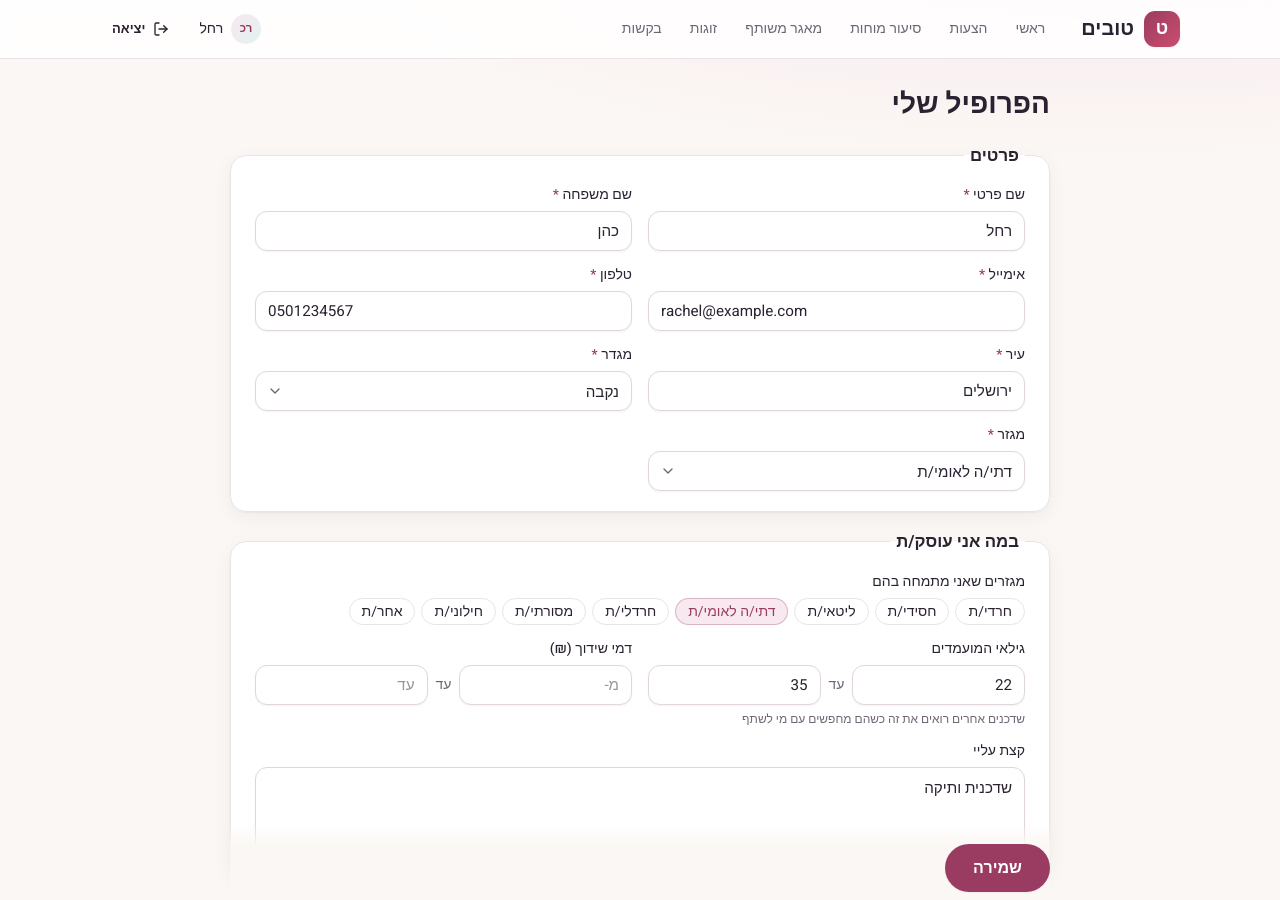
Test: matchmaker profile › checks the age range before saving
Replace the text in the number field named "עד גיל" with "20": (734, 685) [648,665,820,705]
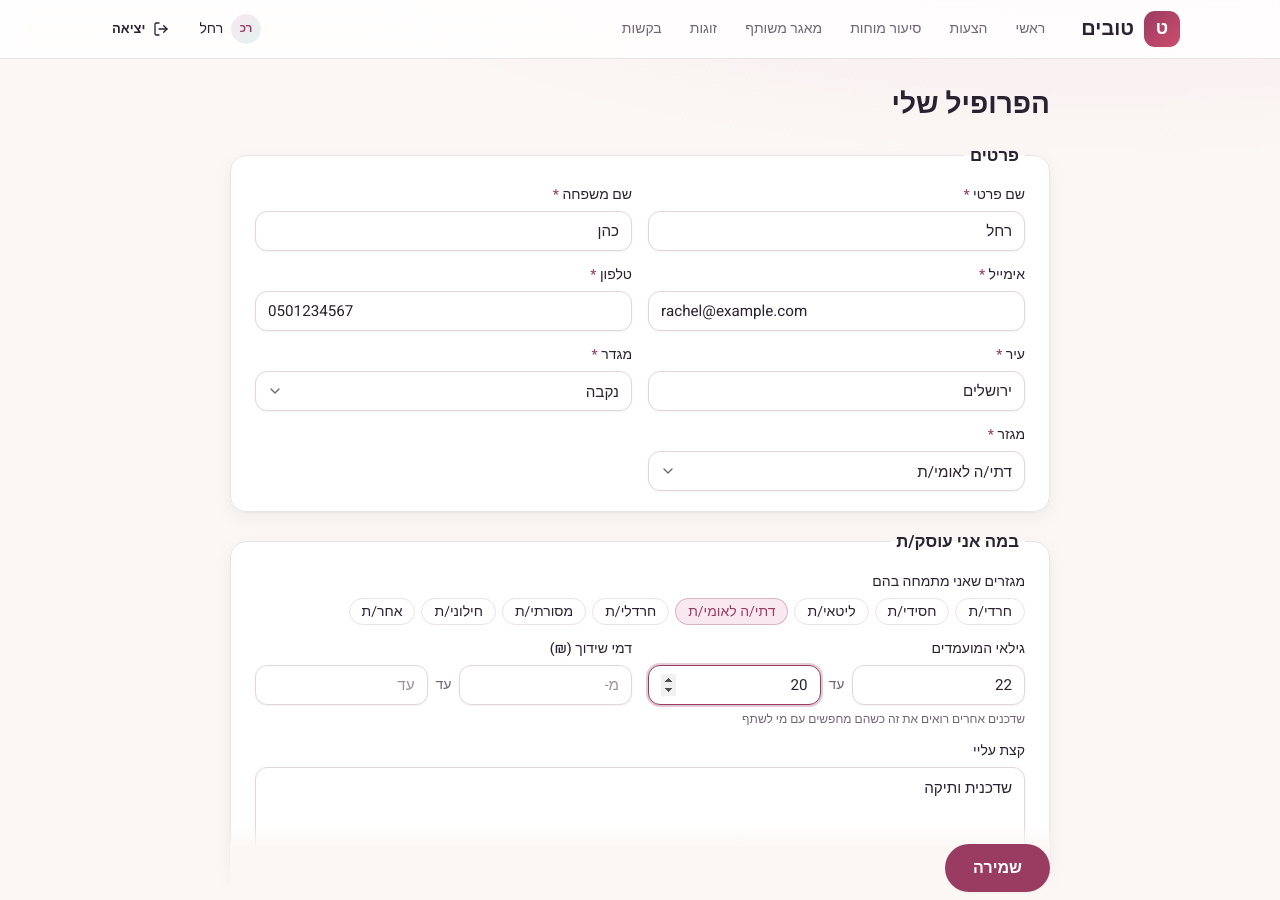
Click the button "שמירה": (998, 868) [945,844,1050,892]
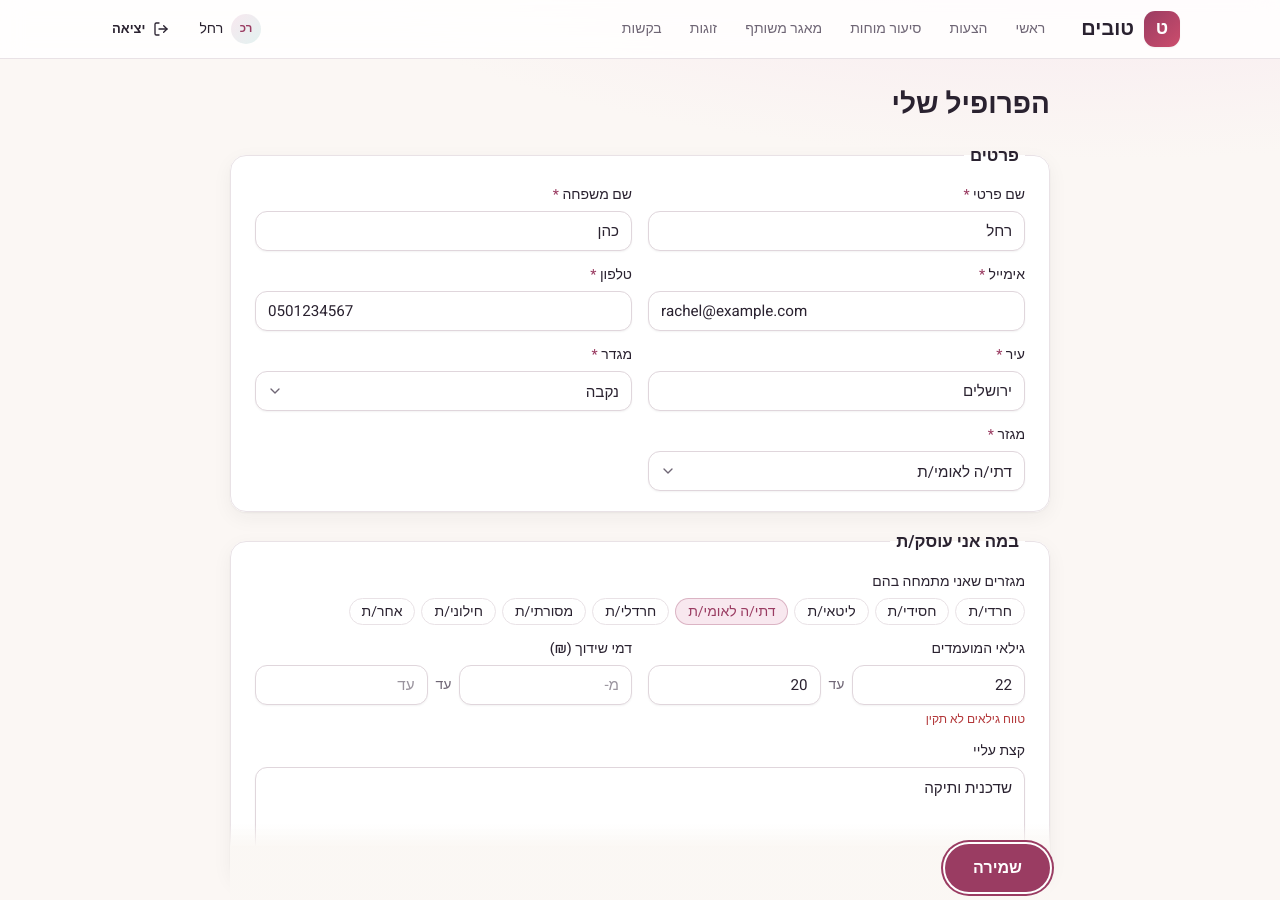
Expected: the text "טווח גילאים לא תקין" is shown, [926,710,1025,728]
